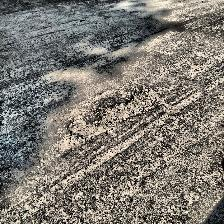pothole: (54, 87, 162, 153)
